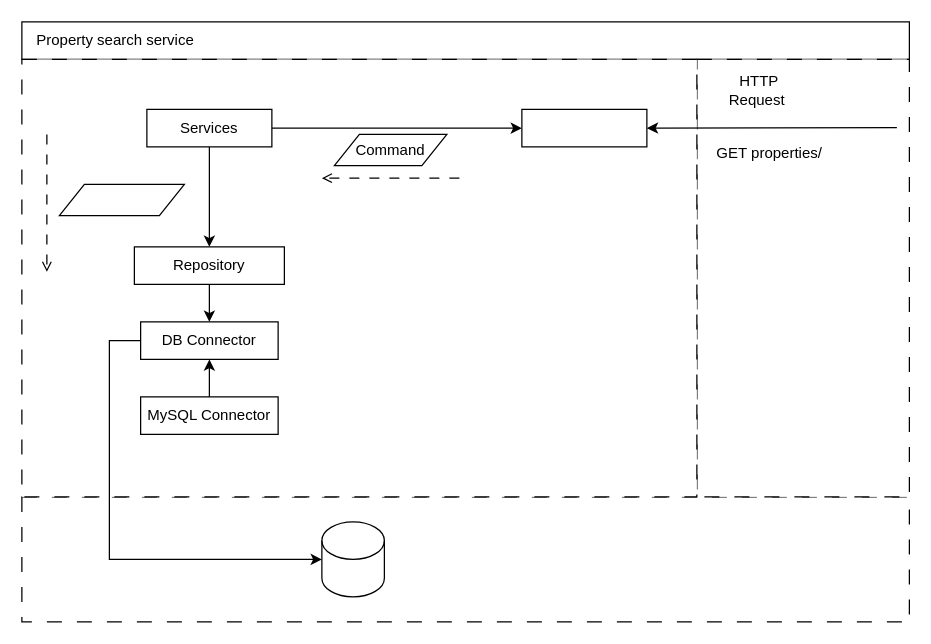
The diagram is 931 pixels wide and 644 high, and some of its shapes have lost their labels. The shapes that lost their labels are listed below. From the top down, each one's centre as x and y in pixels, then its label:
At (x=584, y=127): "Views".
At (x=121, y=199): "GetProperties".
At (x=352, y=559): "DB".
